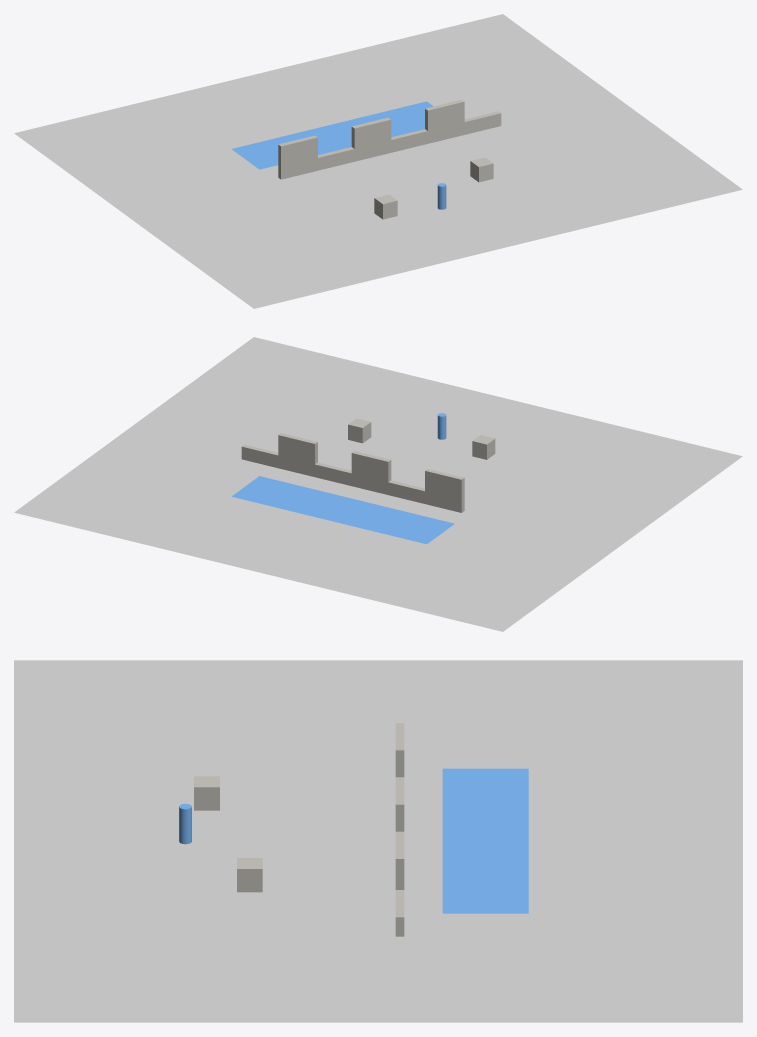
File: cover_map.glb
3 views of the same model, one above another, from view 1: azimuth 30°, elevation 25°; view 2: azimuth 150°, elevation 25°; view 3: azimuth 270°, elevation 25° (orthographic). The views are drawn at different scales.
Parts seen in each view (by area): view 1: ref_floor, ref_target_lane, wall_tall_left, wall_tall_mid, wall_tall_right, wall_low_right.001, wall_low_right, wall_low_left, crate_left, crate_right; view 2: ref_floor, ref_target_lane, wall_tall_left, wall_tall_mid, wall_tall_right, wall_low_right.001, wall_low_right, wall_low_left, crate_right, crate_left; view 3: ref_floor, ref_target_lane, crate_left, crate_right.
Boxes of the visible parts, box(x1,y1,x2,y2) form: ref_floor: box(14, 14, 742, 308); ref_target_lane: box(231, 101, 433, 169); wall_tall_left: box(278, 135, 317, 179); wall_tall_mid: box(351, 117, 391, 161); wall_tall_right: box(425, 99, 464, 143); wall_low_right.001: box(464, 111, 501, 134); wall_low_right: box(391, 129, 427, 152); wall_low_left: box(318, 147, 354, 170); crate_left: box(374, 194, 397, 219); crate_right: box(470, 157, 493, 182); ref_floor: box(14, 337, 742, 631); ref_target_lane: box(232, 476, 454, 544); wall_tall_left: box(425, 469, 464, 512); wall_tall_mid: box(351, 451, 391, 494); wall_tall_right: box(278, 433, 317, 476); wall_low_right.001: box(241, 444, 278, 467); wall_low_right: box(315, 462, 351, 485); wall_low_left: box(388, 480, 424, 503); crate_right: box(348, 418, 371, 443); crate_left: box(472, 435, 495, 459); ref_floor: box(14, 660, 742, 1022); ref_target_lane: box(442, 768, 528, 913); crate_left: box(194, 776, 219, 810); crate_right: box(237, 858, 262, 892).
Bounding box in the file's own units: 40 × 2.6 × 34.
